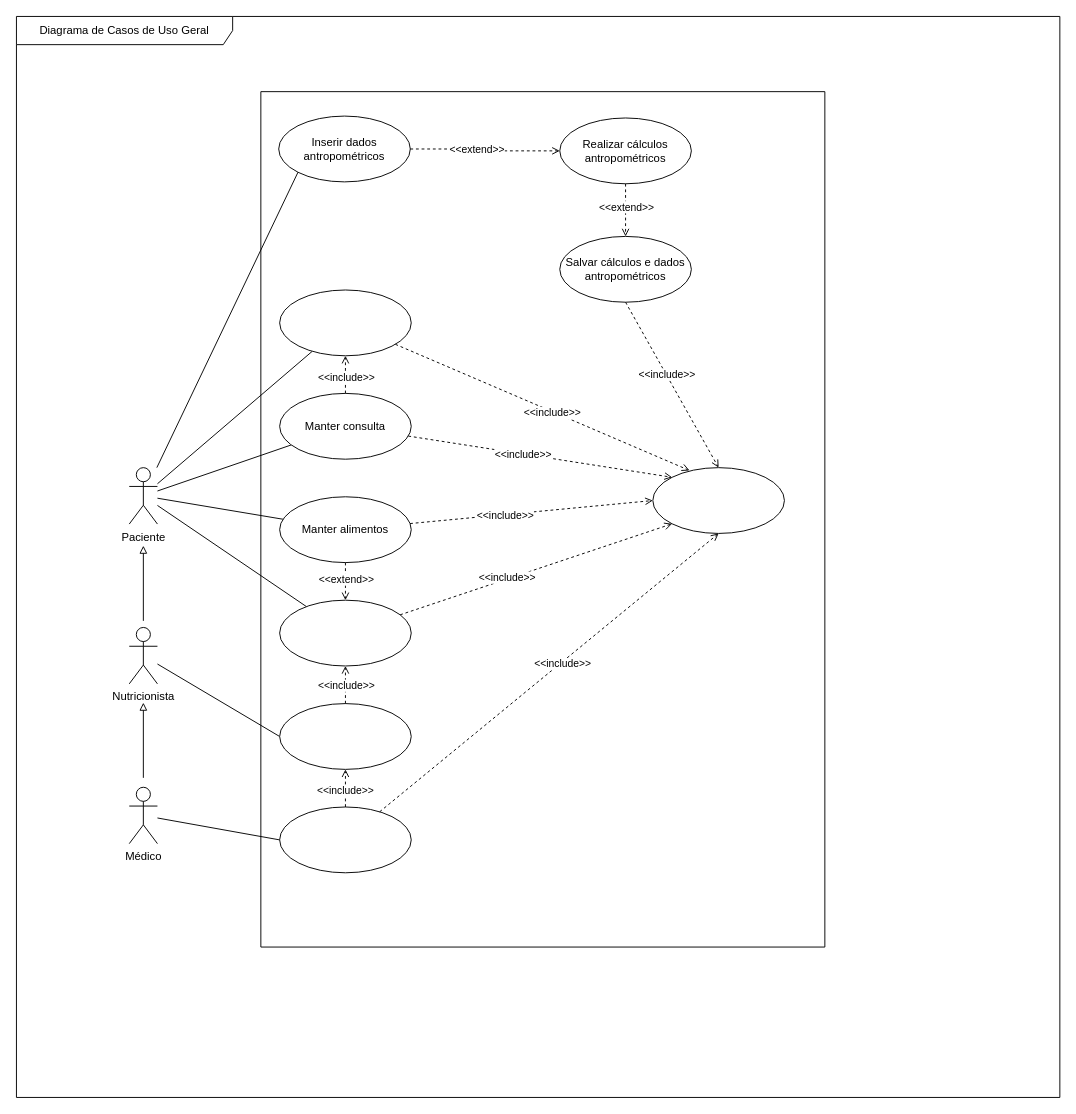
The diagram is 1076 pixels wide and 1114 high, and some of its shapes have lost their labels. The centre of each missing label's shape, as x and y in pixels:
Manter cadastro: [345,322]
Manter dados métricos: [345,632]
Manter dietas: [345,736]
Manter receitas: [345,839]
Realizar login: [718,500]
